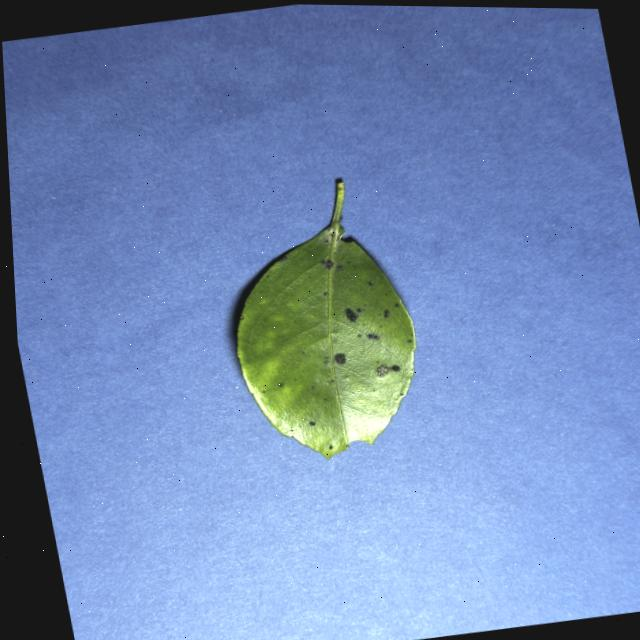sooty_mold: (238, 181, 416, 458)
